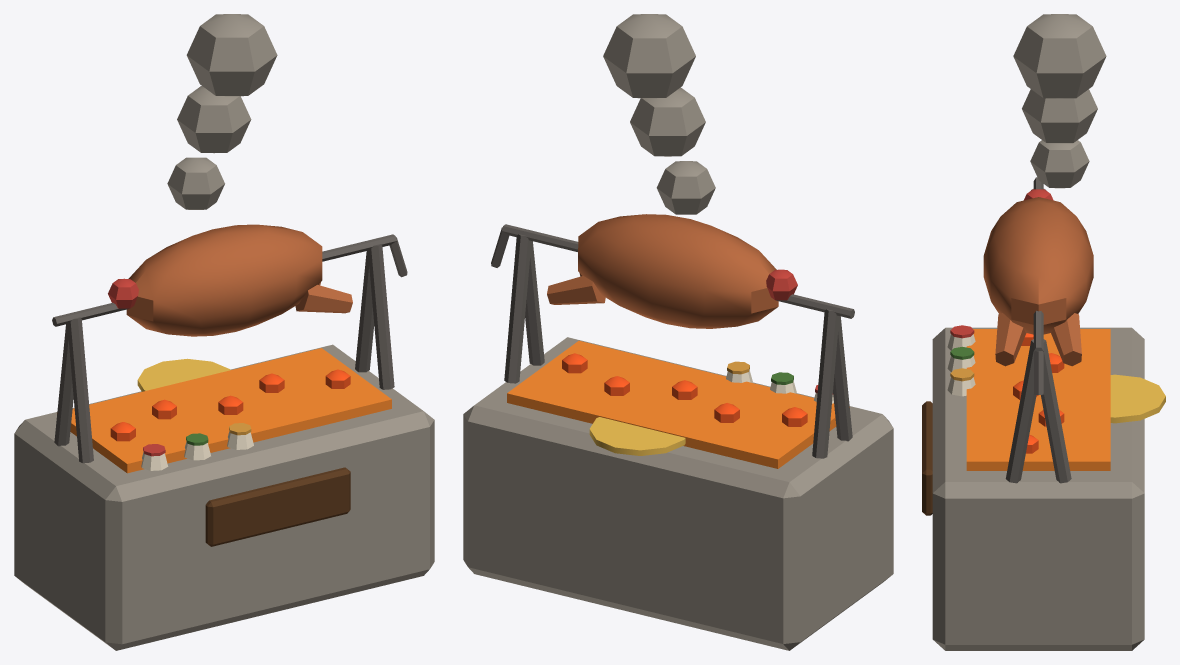
Rendered from PR_Station_Solen_T1.fbx.
3 views of the same model, side by side, from view 1: azimuth 30°, elevation 25°; view 2: azimuth 150°, elevation 25°; view 3: azimuth 270°, elevation 25° (orthographic). The views are drawn at different scales.
Visible parts, largest first — view 1: PR_Station_Solen_T1; view 2: PR_Station_Solen_T1; view 3: PR_Station_Solen_T1.
Part boxes in pixels (bbox=[...]): PR_Station_Solen_T1: bbox=[14, 14, 434, 650]; PR_Station_Solen_T1: bbox=[463, 14, 893, 650]; PR_Station_Solen_T1: bbox=[922, 14, 1165, 650].
Bounding box in the file's own units: 0.9865 × 1.48 × 0.575.
